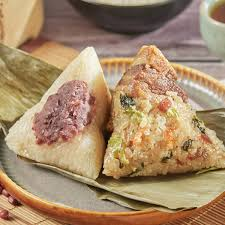zongzi: (103, 46, 224, 178), (5, 48, 110, 179)
